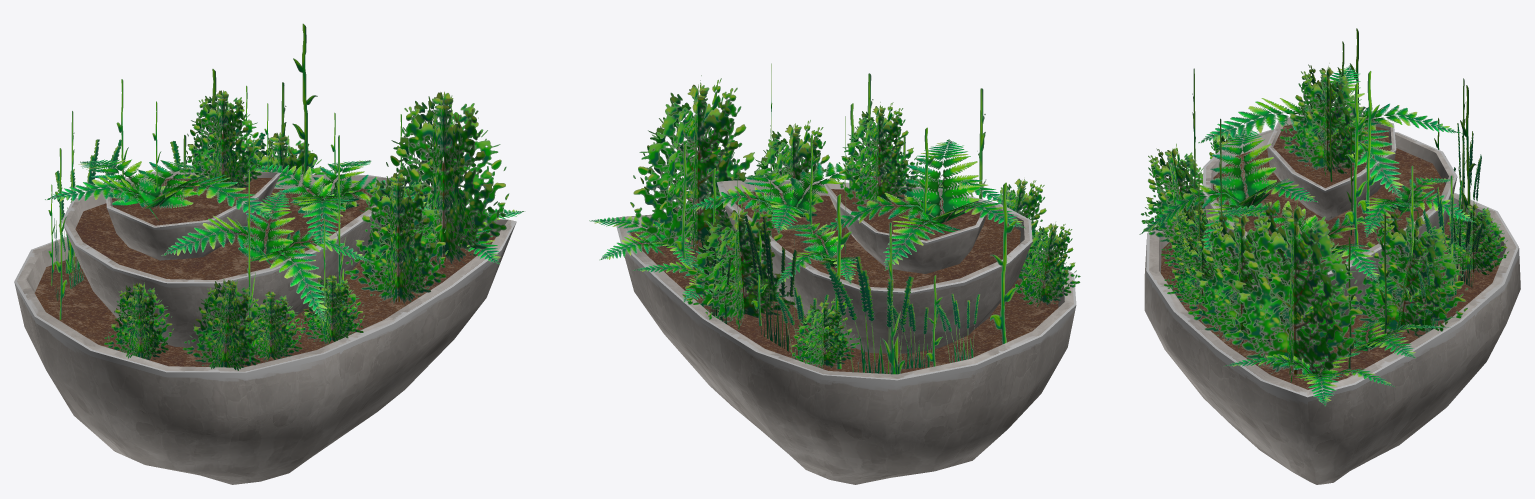
The model's file is SM_PropsHUB_StreetPot_C.fbx.
The picture shows the model from 3 angles, left to right: view 1: azimuth 30°, elevation 25°; view 2: azimuth 150°, elevation 25°; view 3: azimuth 270°, elevation 25°; orthographic projection. The views are drawn at different scales.
Parts seen in each view (by area): view 1: SM_Cantero_C; view 2: SM_Cantero_C; view 3: SM_Cantero_C.
Part boxes in pixels (x1=…): SM_Cantero_C: x1=14, y1=23, x2=525, y2=484; SM_Cantero_C: x1=589, y1=63, x2=1080, y2=484; SM_Cantero_C: x1=1139, y1=28, x2=1520, y2=484.
Bounding box in the file's own units: 316 × 247 × 226.
